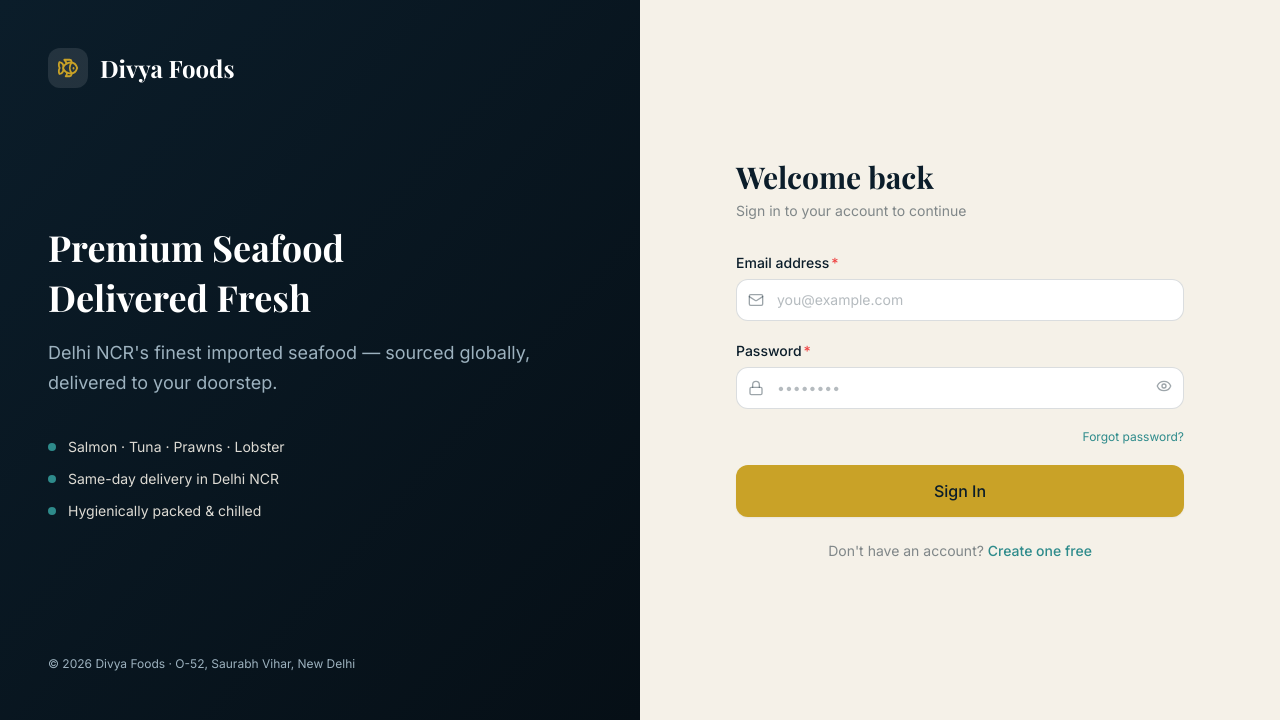
Scenario: LoginPage › shows validation errors for empty fields on submit
Click the button "Sign In" at (960, 491), box [736, 465, 1184, 517]
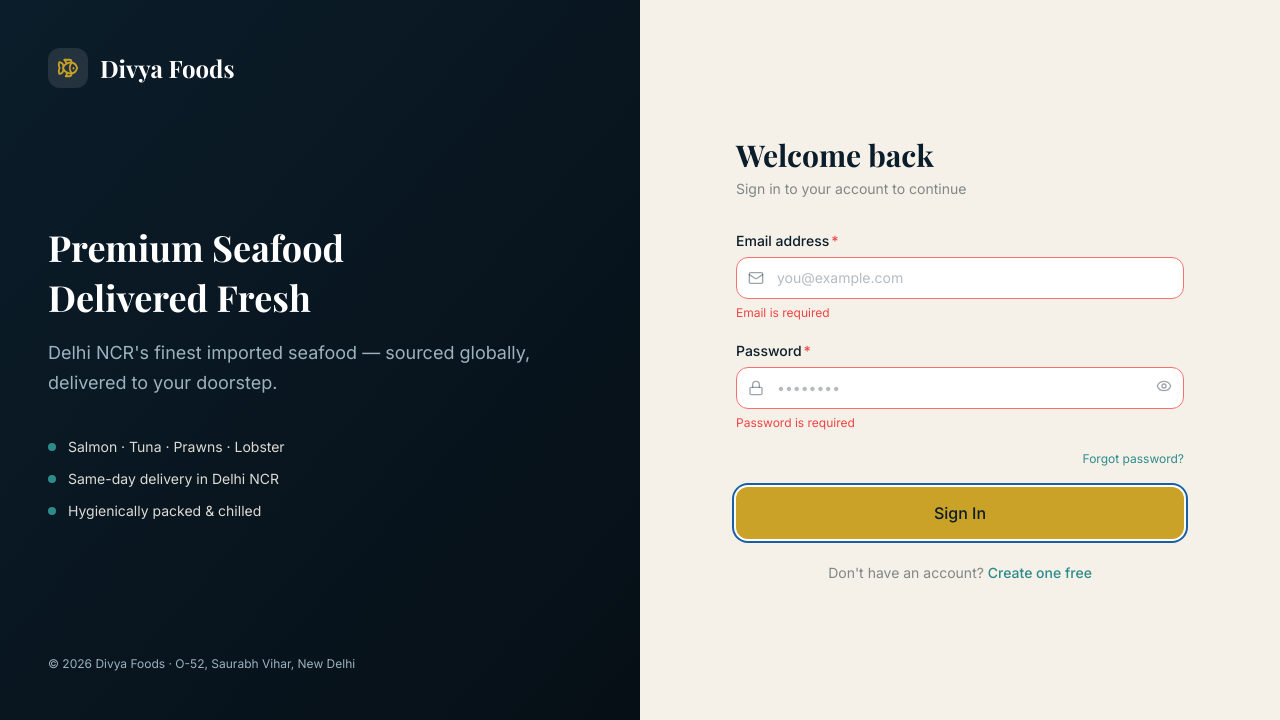
expect the text "Email is required" is shown: met, box [736, 305, 830, 320]
expect the text "Password is required" is shown: met, box [736, 415, 855, 430]
